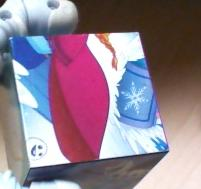Red1: (9, 31, 169, 167)
